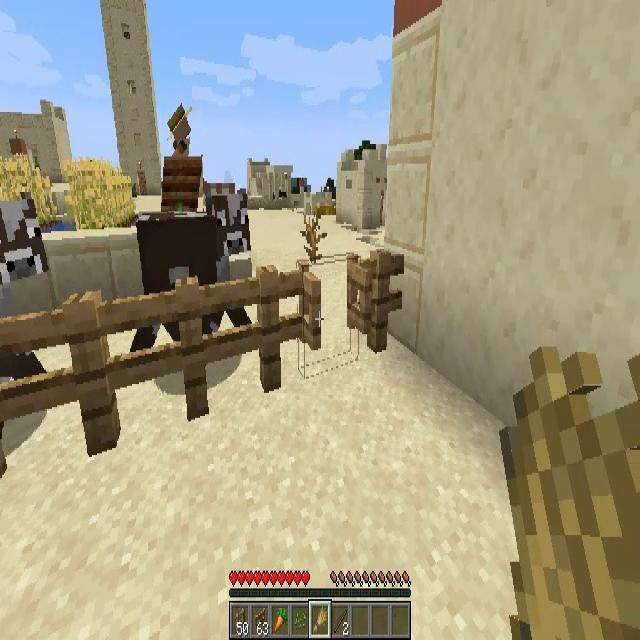cow: (130, 190, 253, 354), (0, 187, 54, 411)
people: (161, 102, 203, 212)
